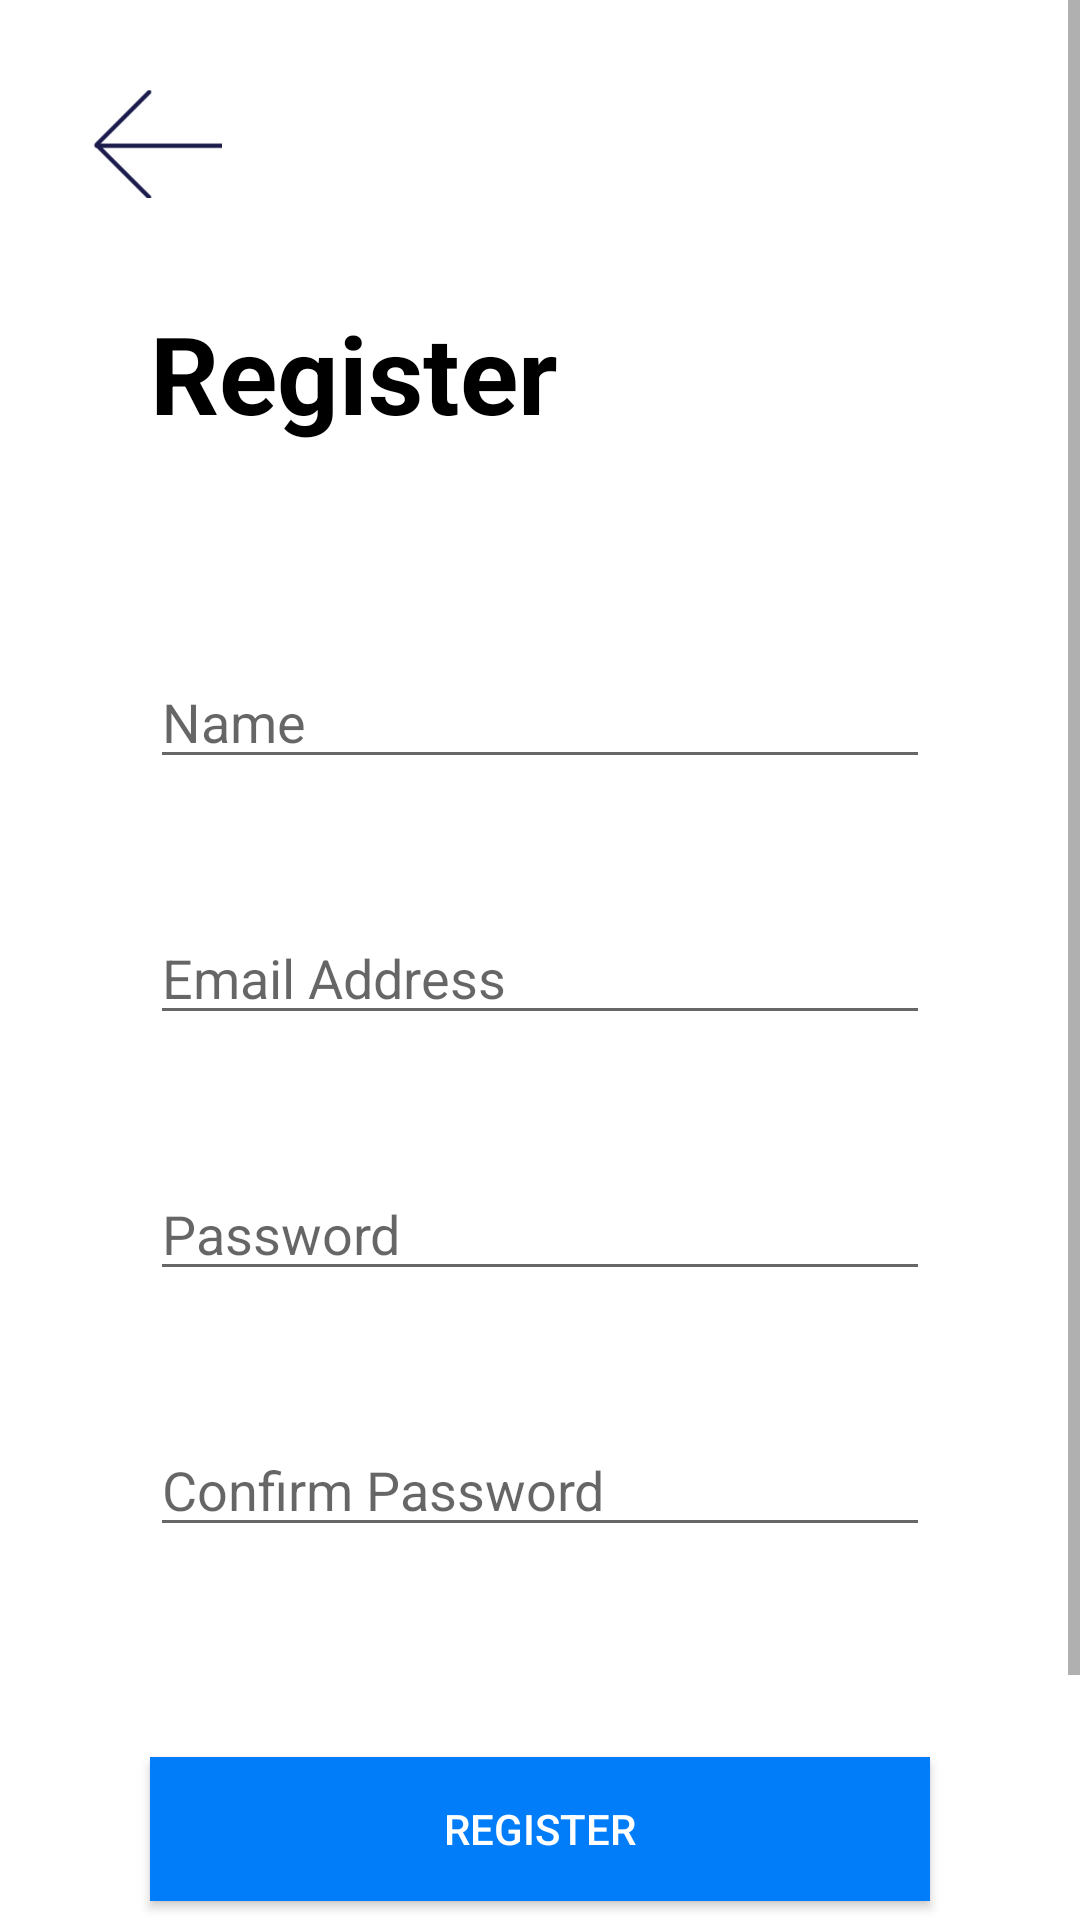

Icons on this 1080x1920 Android screen, each with the point to tap as point (x, y):
back: point (158, 144)
